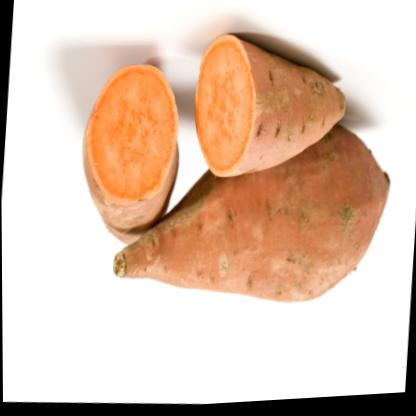---: (110, 102, 393, 331), (186, 23, 355, 198), (73, 41, 185, 255)
